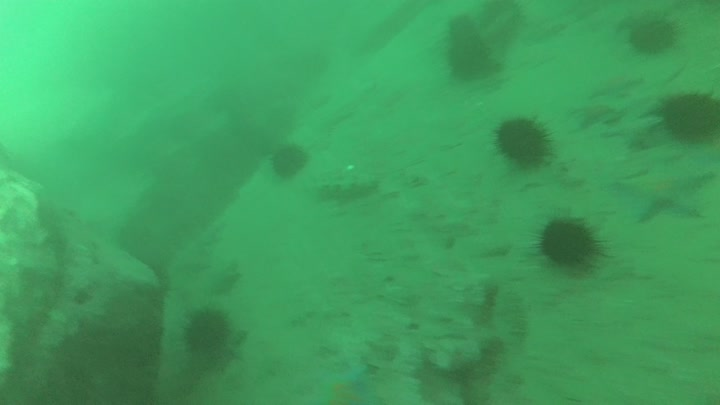echinus: (527, 210, 617, 280), (175, 305, 245, 371), (488, 114, 561, 174), (651, 87, 720, 150), (622, 16, 692, 60), (265, 145, 314, 183)
holothurian: (312, 172, 382, 202)
starfish: (615, 153, 718, 228), (313, 365, 385, 405), (571, 99, 635, 133), (589, 73, 647, 102)
